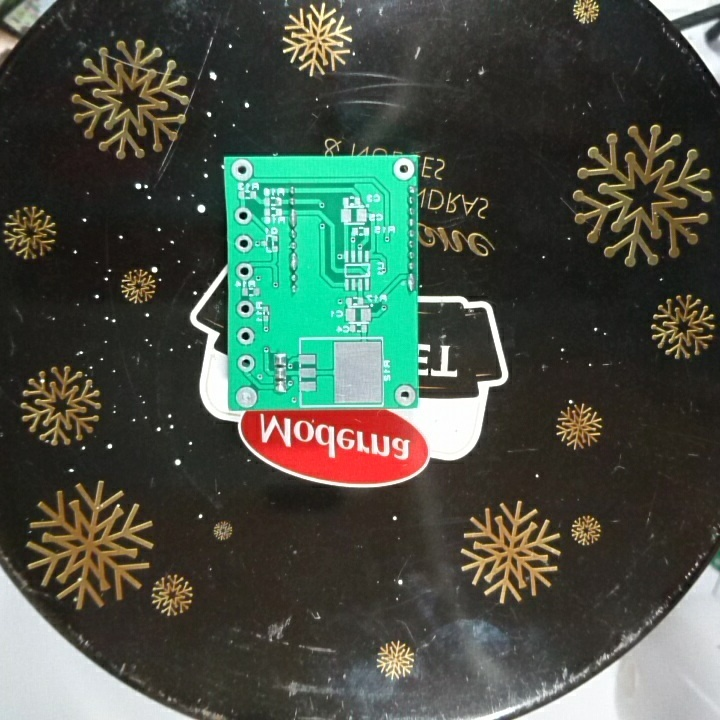F: (228, 158, 256, 182), (234, 385, 259, 409), (391, 157, 415, 181), (393, 382, 416, 406), (235, 325, 257, 346), (234, 298, 257, 318), (233, 204, 253, 227), (233, 232, 254, 253), (235, 353, 257, 373), (234, 260, 253, 282)
P: (403, 270, 417, 296), (287, 207, 299, 229), (288, 249, 299, 272)
